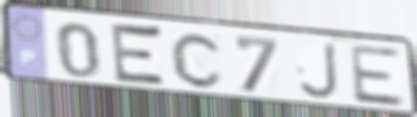0: (53, 20, 106, 79)
7: (233, 33, 281, 96)
C: (169, 31, 226, 91)
E: (110, 19, 169, 91), (347, 43, 408, 109)
J: (296, 41, 342, 101)
